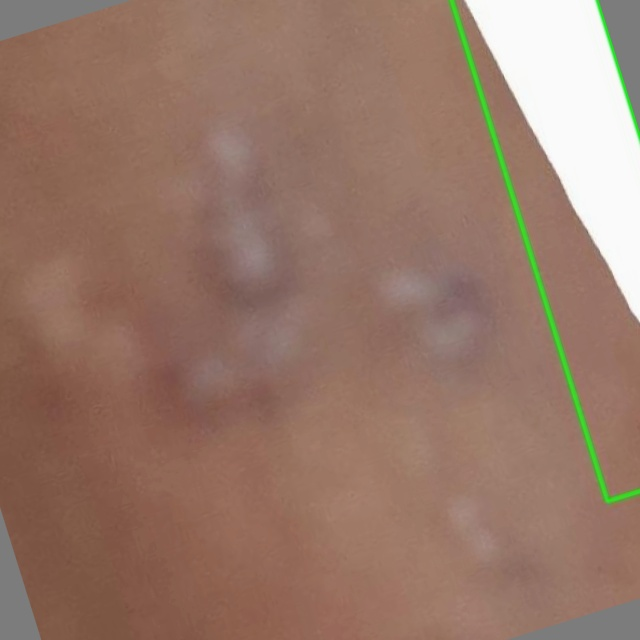Contact Dermatitis: (450, 0, 639, 502)
